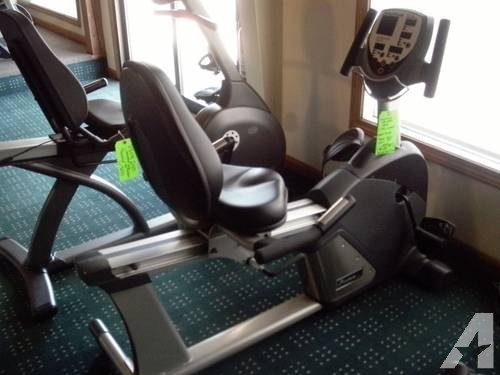gym_bike: (116, 10, 444, 367)
